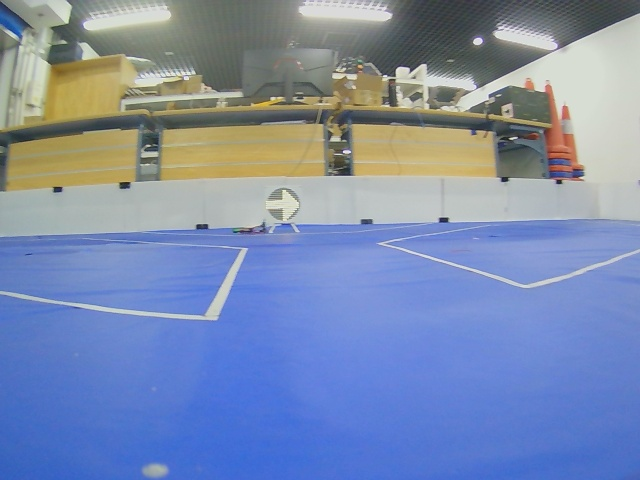right_yellow: (266, 188, 300, 222)
